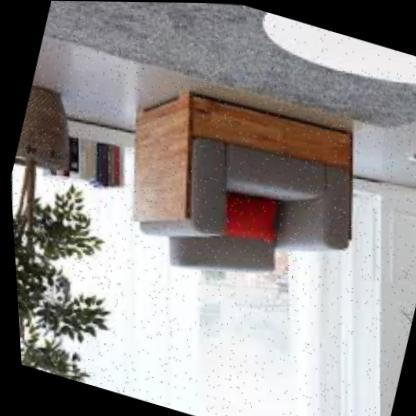Sofa: (58, 31, 416, 346)
